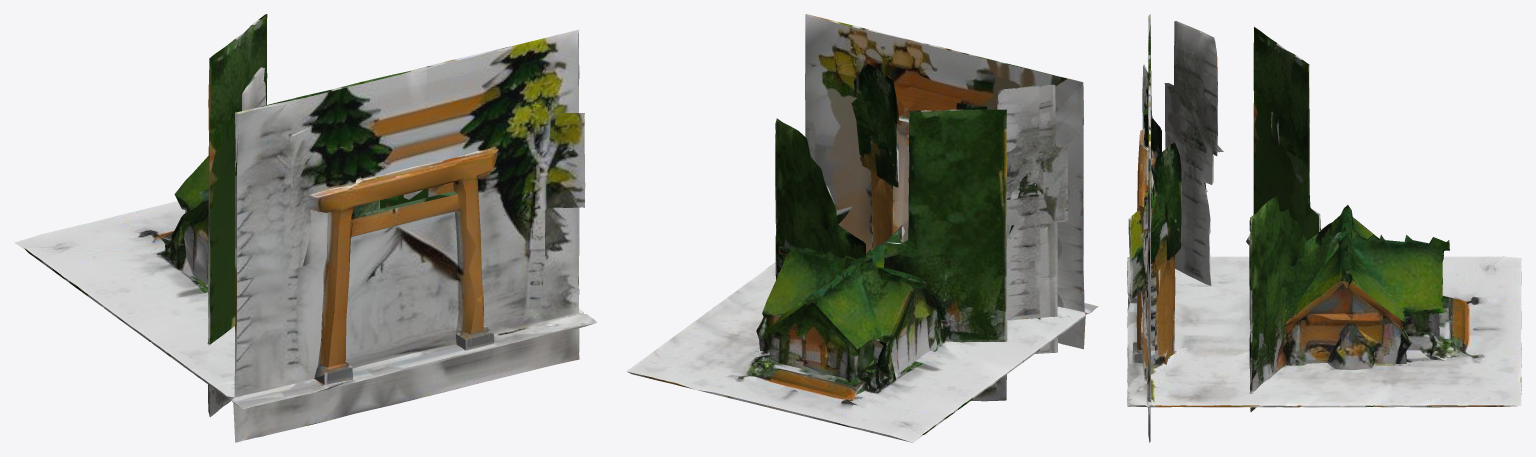
Rendered from hokkaido-jingu.glb.
3 views of the same model, side by side, from view 1: azimuth 30°, elevation 25°; view 2: azimuth 150°, elevation 25°; view 3: azimuth 270°, elevation 25° (orthographic). The views are drawn at different scales.
Visible parts, largest first — view 1: logan-textured.obj; view 2: logan-textured.obj; view 3: logan-textured.obj.
Boxes of the visible parts, left/top/right/bottom form: logan-textured.obj: left=14, top=14, right=597, bottom=442; logan-textured.obj: left=626, top=14, right=1098, bottom=442; logan-textured.obj: left=1127, top=14, right=1521, bottom=442.
Bounding box in the file's own units: 0.8959 × 0.8707 × 1.
1 material, 1 textured.
